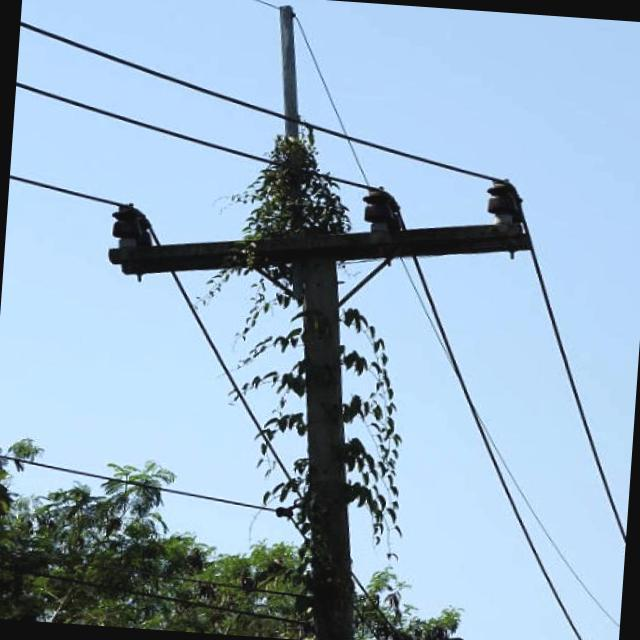critical vegetation: (162, 79, 464, 552)
